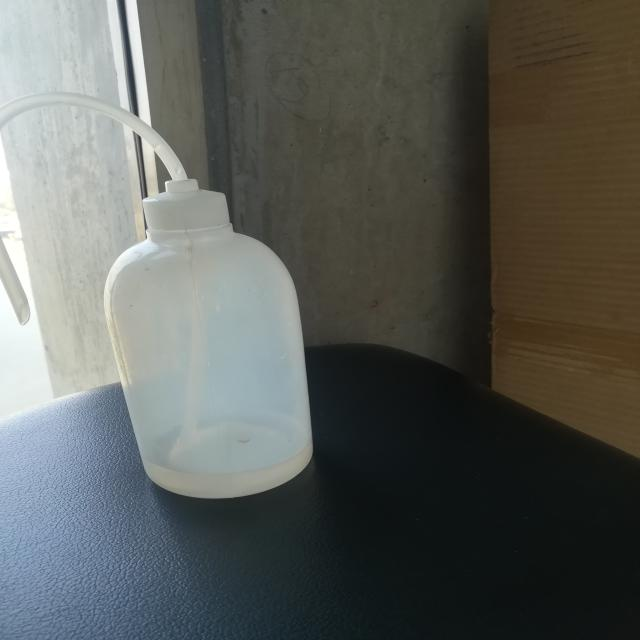Wash_Bottle: (0, 66, 354, 528)
